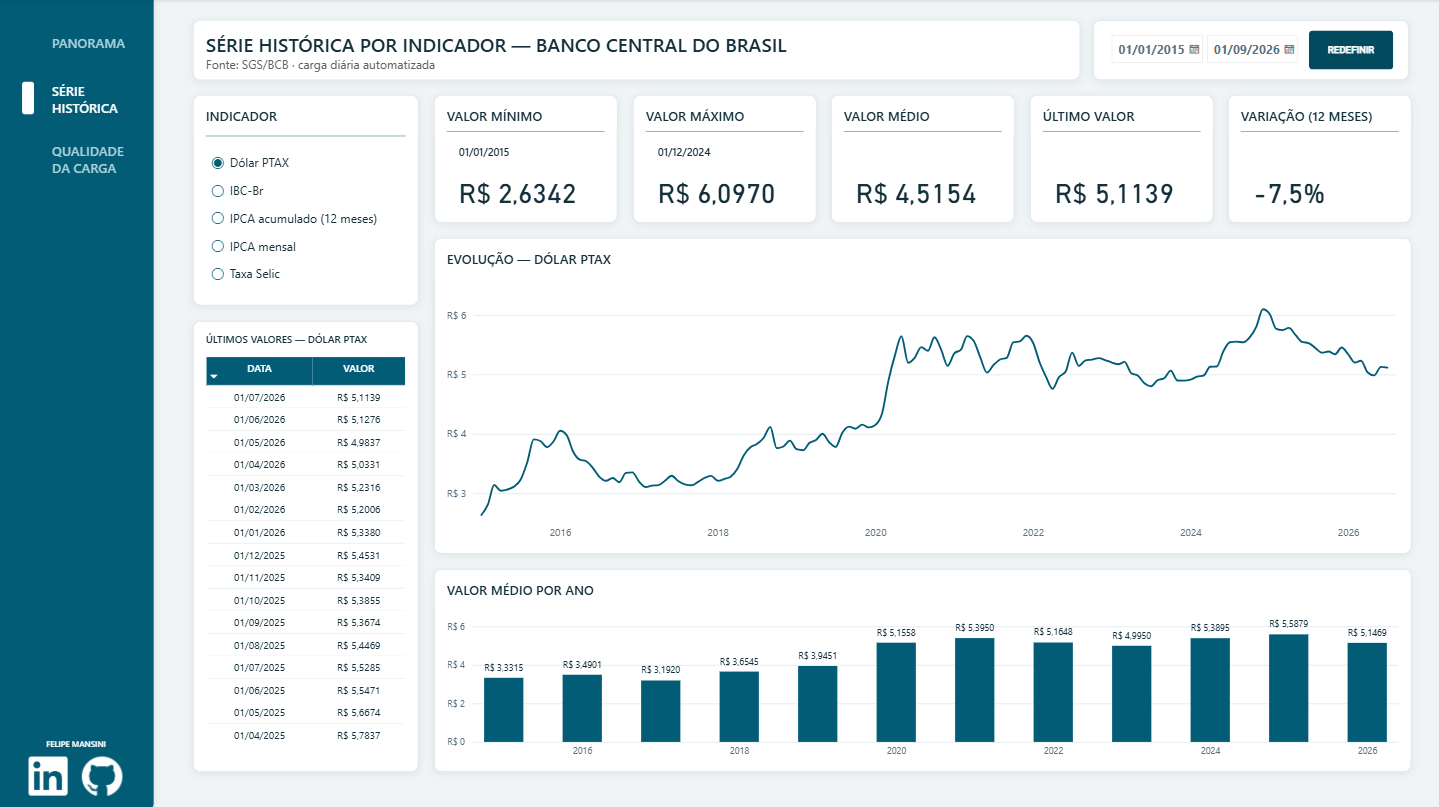

What the dashboard file says about the page in this screenshot:
{"tool":"powerbi","page":{"name":"Série histórica","canvas":[1920,1080],"ordinal":1},"visuals":[{"type":"slicer","title":"INDICADOR","fields":{"Values":["analytics dim_series.short_name"]},"box":[260,128,300,280],"z":0},{"type":"cardVisual","title":"VALOR MÍNIMO","fields":{"Data":["_Medidas.Valor Mínimo"]},"box":[580,128,244,170],"z":1000},{"type":"cardVisual","title":"VALOR MÁXIMO","fields":{"Data":["_Medidas.Valor Máximo"]},"box":[844,128,244,170],"z":2000},{"type":"cardVisual","title":"VALOR MÉDIO","fields":{"Data":["_Medidas.Valor Médio"]},"box":[1108,128,244,170],"z":3000},{"type":"cardVisual","title":"ÚLTIMO VALOR","fields":{"Data":["_Medidas.Último Valor"]},"box":[1372,128,244,170],"z":4000},{"type":"lineChart","fields":{"Category":["analytics dim_calendar.date_key"],"Y":["_Medidas.Último Valor"]},"box":[580,318,1300,420],"z":5000},{"type":"cardVisual","title":"VARIAÇÃO (12 MESES)","fields":{"Data":["_Medidas.Variação 12 Meses"]},"box":[1636,128,244,170],"z":6000},{"type":"columnChart","title":"VALOR MÉDIO POR ANO","fields":{"Category":["analytics dim_calendar.year"],"Y":["_Medidas.Valor Médio"]},"box":[580,758,1300,270],"z":7000},{"type":"tableEx","fields":{"Values":["analytics dim_calendar.date_key","_Medidas.Último Valor"]},"box":[260,428,300,600],"z":8000},{"type":"shape","title":"SÉRIE HISTÓRICA POR INDICADOR — BANCO CENTRAL DO BRASIL","box":[260,28,1180,80],"z":9000},{"type":"slicer","title":"Período","fields":{"Values":["analytics dim_calendar.date_key"]},"box":[1456,28,420,80],"z":10000},{"type":"actionButton","box":[1728,28,144,80],"z":11000},{"type":"shape","box":[0,-8,208,1088],"z":12000},{"type":"actionButton","title":"PANORAMA","box":[56,32,152,56],"z":13000},{"type":"actionButton","title":"SÉRIE HISTÓRICA","box":[56,96,152,64],"z":14000},{"type":"actionButton","title":"QUALIDADE DA CARGA","box":[56,176,152,64],"z":15000},{"type":"shape","box":[16,96,48,72],"z":16000},{"type":"image","box":[82.7,994,112,80],"z":17000},{"type":"image","box":[10.7,994,112,80],"z":18000},{"type":"textbox","title":"FELIPE MANSINI","box":[40,968,128,40],"z":19000}]}

Visuals, with their boxes on the page's 1920x1080 design canvas (x1, y1, x2, y2). These are canvas units, not pixel positions in the 1439x807 screenshot, which may show the page scaled, cropped or inside an application window:
"INDICADOR" slicer: bbox(260, 128, 560, 408)
"VALOR MÍNIMO" cardVisual: bbox(580, 128, 824, 298)
"VALOR MÁXIMO" cardVisual: bbox(844, 128, 1088, 298)
"VALOR MÉDIO" cardVisual: bbox(1108, 128, 1352, 298)
"ÚLTIMO VALOR" cardVisual: bbox(1372, 128, 1616, 298)
lineChart - analytics dim_calendar.date_key x _Medidas.Último Valor: bbox(580, 318, 1880, 738)
"VARIAÇÃO (12 MESES)" cardVisual: bbox(1636, 128, 1880, 298)
"VALOR MÉDIO POR ANO" columnChart: bbox(580, 758, 1880, 1028)
tableEx - analytics dim_calendar.date_key x _Medidas.Último Valor: bbox(260, 428, 560, 1028)
"SÉRIE HISTÓRICA POR INDICADOR — BANCO CENTRAL DO BRASIL" shape: bbox(260, 28, 1440, 108)
"Período" slicer: bbox(1456, 28, 1876, 108)
actionButton: bbox(1728, 28, 1872, 108)
shape: bbox(0, -8, 208, 1080)
"PANORAMA" actionButton: bbox(56, 32, 208, 88)
"SÉRIE HISTÓRICA" actionButton: bbox(56, 96, 208, 160)
"QUALIDADE DA CARGA" actionButton: bbox(56, 176, 208, 240)
shape: bbox(16, 96, 64, 168)
image: bbox(83, 994, 195, 1074)
image: bbox(11, 994, 123, 1074)
"FELIPE MANSINI" textbox: bbox(40, 968, 168, 1008)
